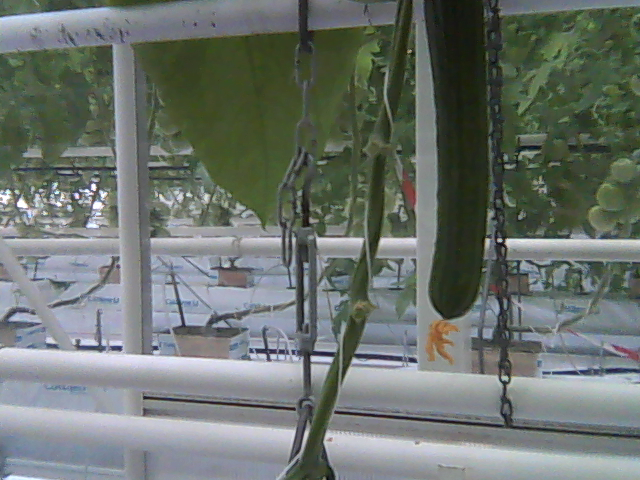concombre: (418, 1, 489, 355)
